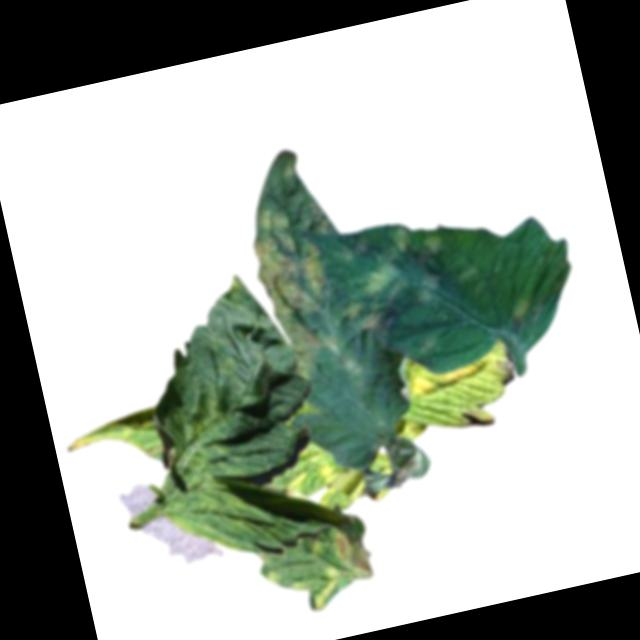Leaf_Mold: (230, 142, 361, 387), (328, 209, 468, 348), (274, 421, 403, 522), (253, 522, 377, 622), (61, 405, 168, 478), (402, 343, 498, 399)
